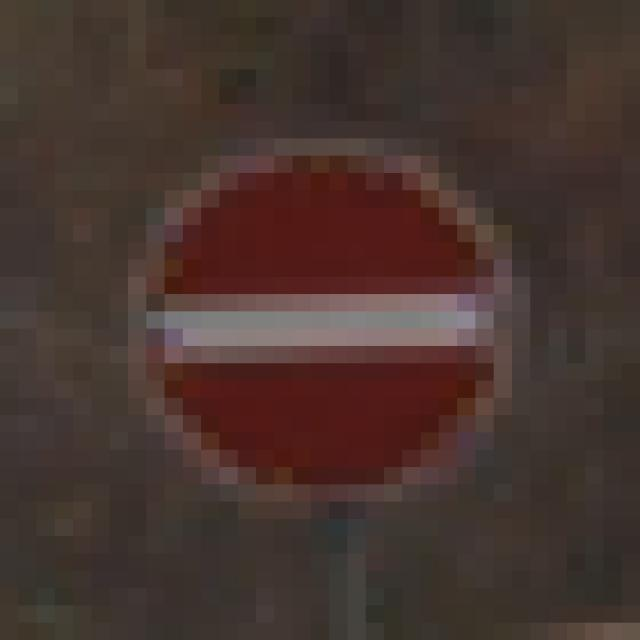No Entry: (93, 105, 550, 554)
